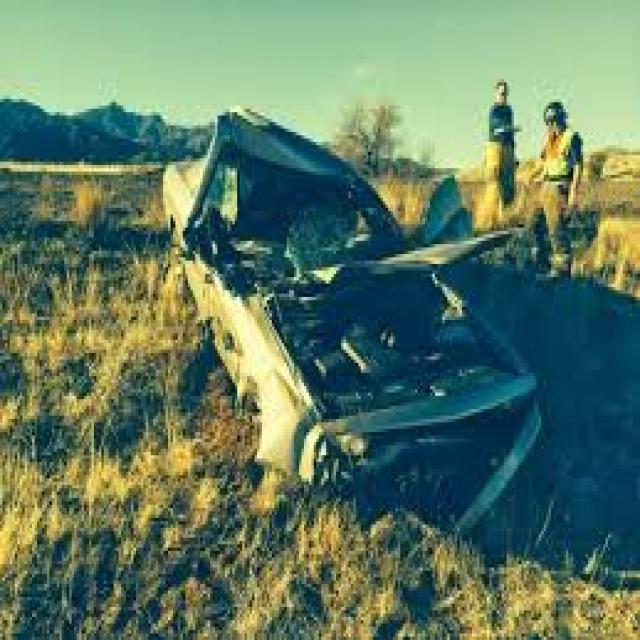severe: (178, 122, 527, 496)
